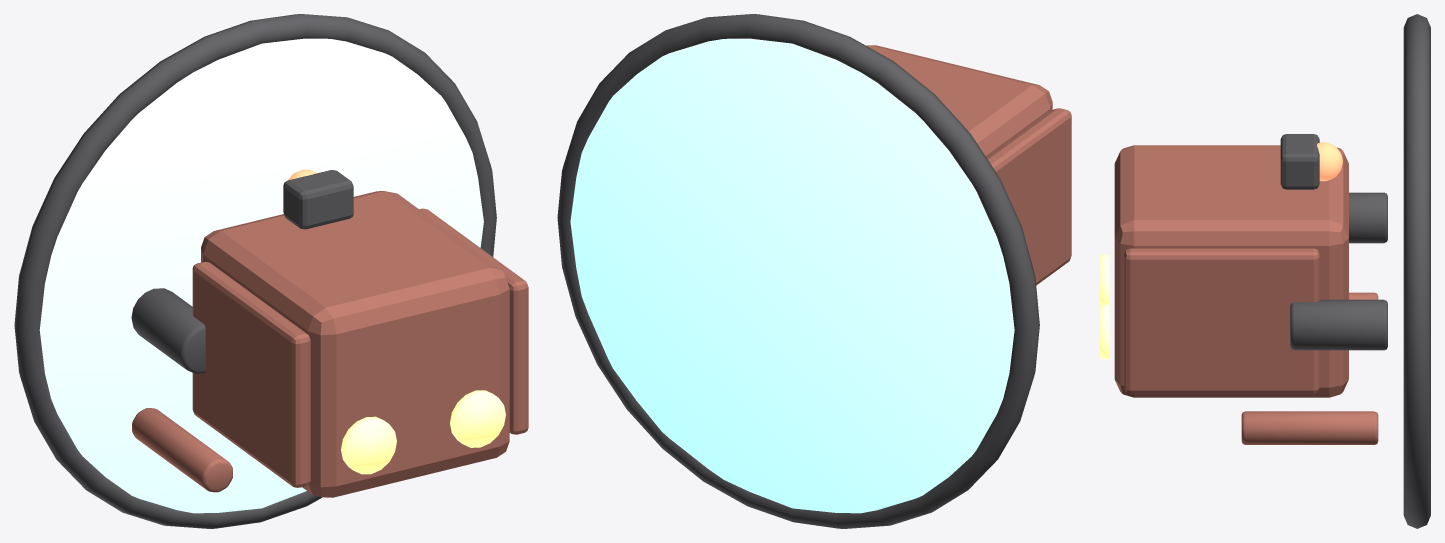
Rendered from schildtraeger.glb.
The picture shows the model from 3 angles, left to right: view 1: azimuth 30°, elevation 25°; view 2: azimuth 150°, elevation 25°; view 3: azimuth 270°, elevation 25°; orthographic projection. The views are drawn at different scales.
Parts seen in each view (by area): view 1: Schild, Rumpf.002, Schildrand, Seite-1, Emitter-1, Kanone-1.001, Seite1, Sensor, Duese1.002, Duese-1.002; view 2: Schild, Schildrand, Seite-1, Rumpf.002; view 3: Rumpf.002, Seite1, Schildrand, Emitter1, Kanone1.001, Sensor, Emitter-1, Auge.004, Duese1.002, Duese-1.002.
Part boxes in pixels (x1=…): Schild: x1=39, y1=38, x2=483, y2=513; Rumpf.002: x1=201, y1=191, x2=509, y2=497; Schildrand: x1=14, y1=14, x2=496, y2=528; Seite-1: x1=192, y1=262, x2=310, y2=487; Emitter-1: x1=131, y1=288, x2=205, y2=373; Kanone-1.001: x1=132, y1=408, x2=232, y2=492; Seite1: x1=419, y1=208, x2=528, y2=434; Sensor: x1=283, y1=170, x2=353, y2=229; Duese1.002: x1=450, y1=390, x2=505, y2=447; Duese-1.002: x1=341, y1=416, x2=396, y2=474; Schild: x1=570, y1=38, x2=1014, y2=513; Schildrand: x1=557, y1=14, x2=1039, y2=528; Seite-1: x1=987, y1=108, x2=1071, y2=285; Rumpf.002: x1=866, y1=45, x2=1052, y2=157; Rumpf.002: x1=1114, y1=145, x2=1348, y2=397; Seite1: x1=1124, y1=248, x2=1319, y2=393; Schildrand: x1=1403, y1=14, x2=1430, y2=528; Emitter1: x1=1290, y1=299, x2=1387, y2=350; Kanone1.001: x1=1241, y1=411, x2=1378, y2=444; Sensor: x1=1280, y1=134, x2=1319, y2=189; Emitter-1: x1=1349, y1=192, x2=1387, y2=243; Auge.004: x1=1317, y1=142, x2=1342, y2=181; Duese1.002: x1=1100, y1=304, x2=1109, y2=358; Duese-1.002: x1=1100, y1=254, x2=1109, y2=304.
Bounding box in the file's own units: 2.64 × 2.64 × 1.7.
